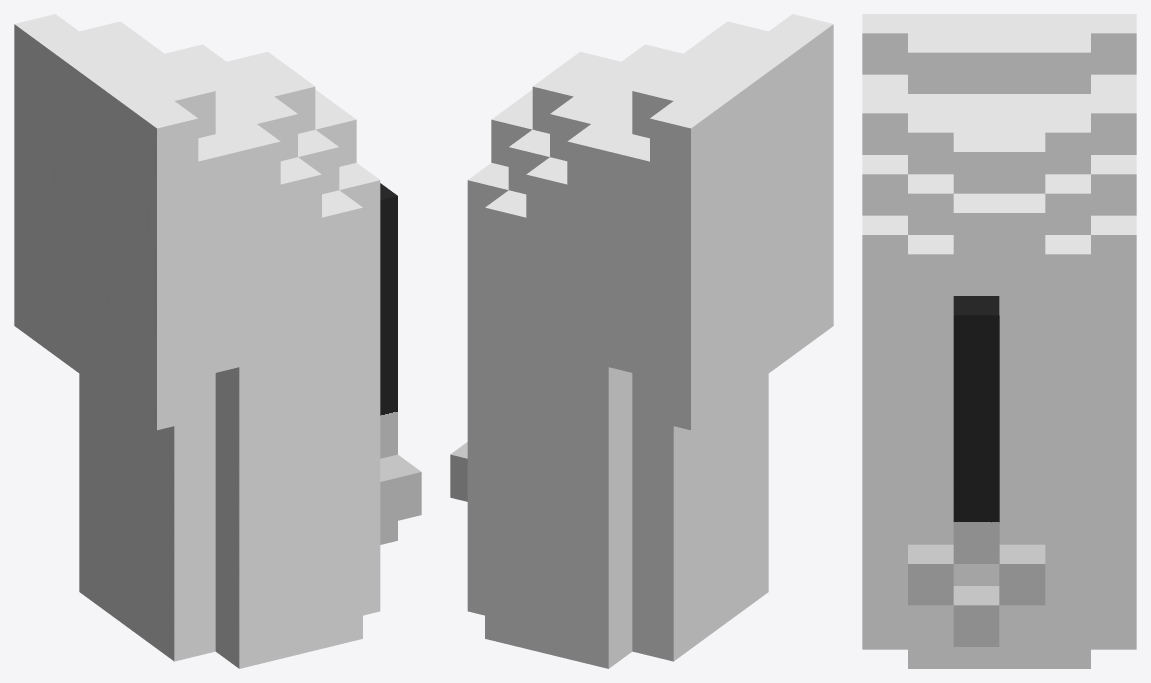
Rendered from r_g_wiso.dae.
3 renders of one model, left to right at view 1: azimuth 30°, elevation 25°; view 2: azimuth 150°, elevation 25°; view 3: azimuth 270°, elevation 25°, orthographic. The views are drawn at different scales.
Visible parts, largest first — view 1: Content; view 2: Content; view 3: Content.
Boxes of the visible parts, left/top/right/bottom form: Content: left=14, top=14, right=421, bottom=668; Content: left=450, top=14, right=833, bottom=668; Content: left=862, top=14, right=1136, bottom=668.
Size of the model in its own units: 7 by 13 by 6.
1 material, 1 textured.
